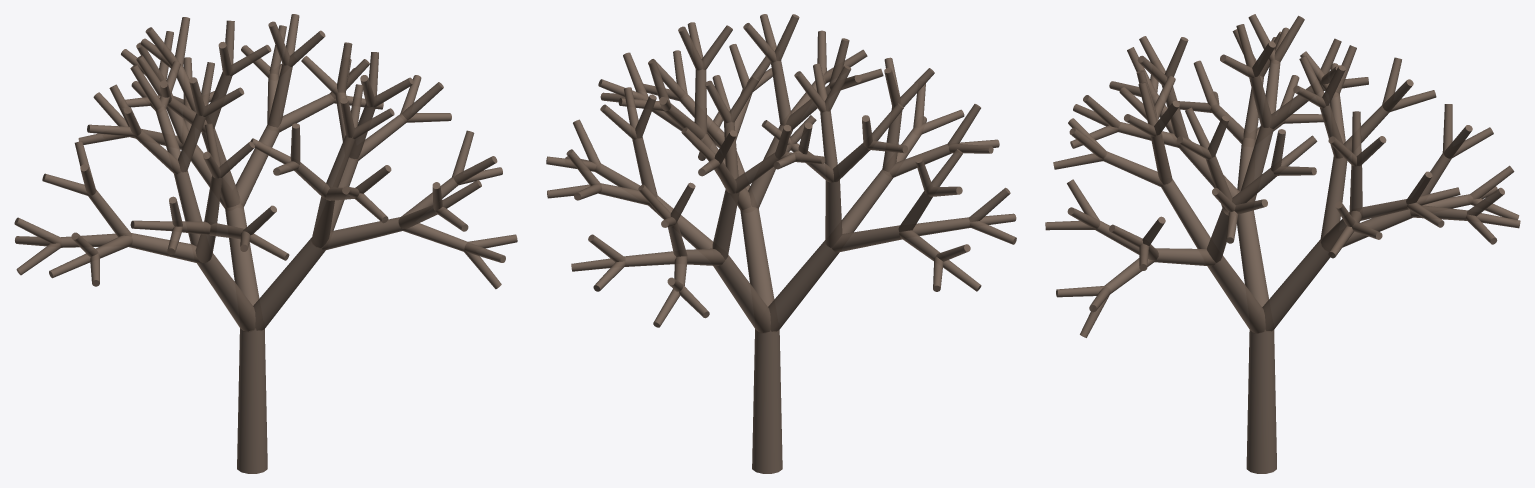
The model's file is fractaltree1_4.glb.
3 views of the same model, side by side, from view 1: azimuth 30°, elevation 25°; view 2: azimuth 150°, elevation 25°; view 3: azimuth 270°, elevation 25° (orthographic).
Bounding box in the file's own units: 9.49 × 9.04 × 9.49.
